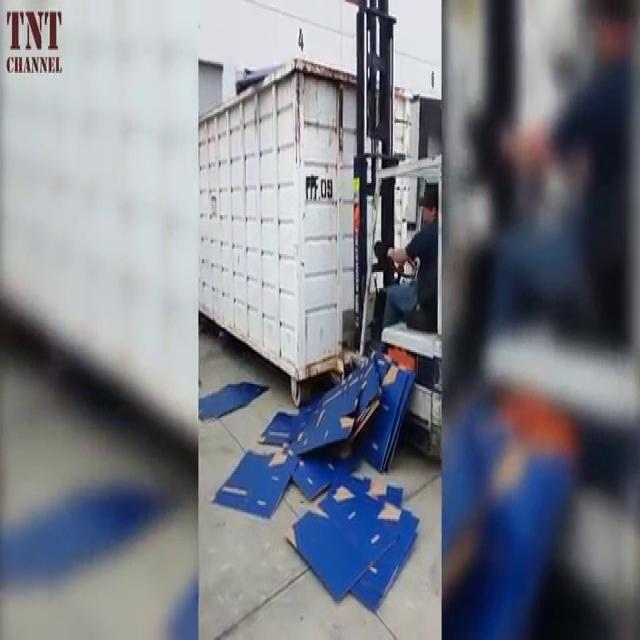forklift: (359, 139, 442, 457)
